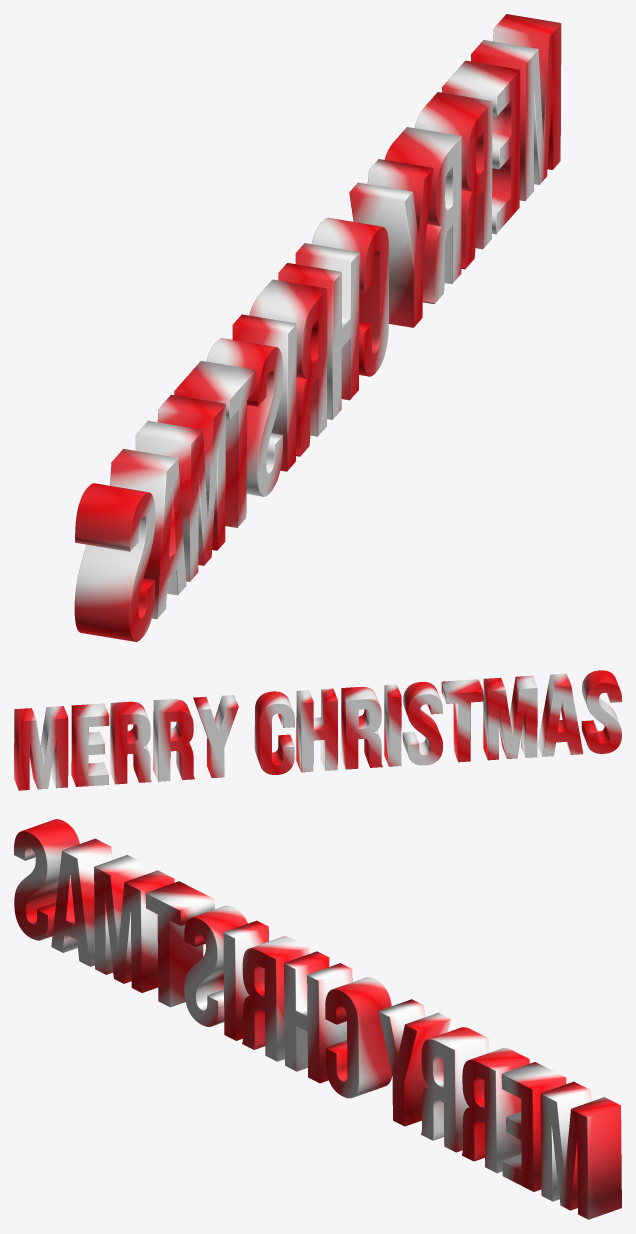
File: MerryChristmasCane.glb
The picture shows the model from 3 angles, top to bottom: view 1: azimuth 30°, elevation 25°; view 2: azimuth 150°, elevation 25°; view 3: azimuth 270°, elevation 25°; orthographic projection. The views are drawn at different scales.
Visible parts, largest first — view 1: Text.014, Text.012, Text.001, Text.005, Text.004, Text.007, Text.003, Text.008, Text.013, Text.002, Text.010, Text.006 (+2 smaller); view 2: Text.001, Text.012, Text.007, Text.003, Text.004, Text.008, Text.002, Text.006, Text.013, Text.014, Text.010, Text.005 (+2 smaller); view 3: Text.001, Text.012, Text.006, Text.007, Text.003, Text.004, Text.008, Text.005, Text.014, Text.013, Text.011, Text.010 (+2 smaller).
Boxes of the visible parts, box(x1,y1,x2,y2) form: Text.014: box(74, 483, 155, 641); Text.012: box(135, 394, 225, 581); Text.001: box(471, 14, 561, 200); Text.005: box(349, 159, 433, 327); Text.004: box(384, 127, 461, 303); Text.007: box(278, 243, 359, 419); Text.003: box(414, 92, 492, 269); Text.008: box(249, 279, 327, 456); Text.013: box(110, 449, 186, 619); Text.002: box(442, 60, 520, 234); Text.010: box(206, 338, 283, 496); Text.006: box(311, 217, 389, 376); Text.001: box(14, 706, 68, 790); Text.012: box(483, 675, 537, 760); Text.007: box(296, 688, 337, 772); Text.003: box(110, 701, 151, 784); Text.004: box(153, 699, 194, 781); Text.008: box(341, 687, 382, 769); Text.002: box(71, 703, 109, 786); Text.006: box(254, 691, 294, 774); Text.013: box(537, 673, 583, 756); Text.014: box(581, 670, 621, 753); Text.010: box(402, 682, 442, 765); Text.005: box(193, 695, 238, 777); Text.001: box(540, 1081, 621, 1219); Text.012: box(94, 855, 174, 992); Text.006: box(325, 977, 392, 1098); Text.007: box(284, 951, 352, 1083); Text.003: box(462, 1048, 529, 1173); Text.004: box(421, 1027, 488, 1152); Text.008: box(242, 936, 309, 1061); Text.005: box(378, 999, 450, 1126); Text.014: box(14, 819, 79, 940); Text.013: box(51, 838, 112, 966); Text.011: box(145, 881, 214, 1007); Text.010: box(184, 905, 247, 1026).
Size of the model in its own units: 13.27 by 2.19 by 11.09.
1 material, 1 textured.
